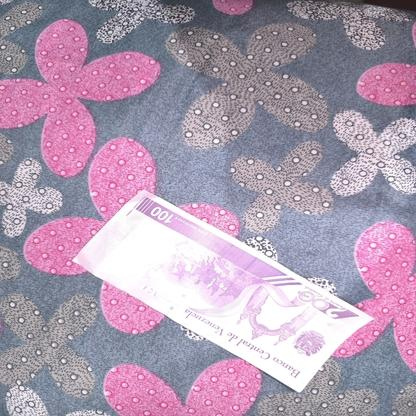one_hundred-back-vef: (70, 187, 376, 392)
